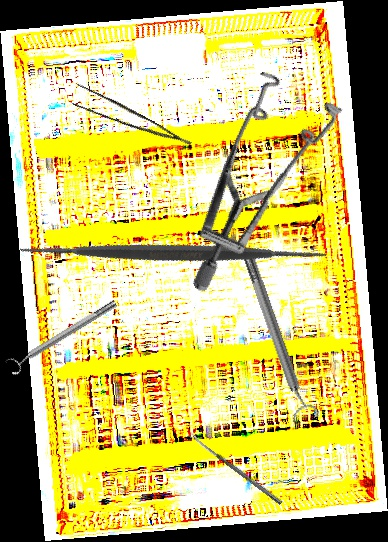Fixation Ring: (233, 245, 321, 426), (3, 295, 122, 377)
Spatula Surgical: (9, 88, 337, 416)
Speculum: (119, 47, 388, 294)
Surgical Spoon: (188, 431, 283, 506)
Tissue Forceps: (64, 78, 192, 164)
